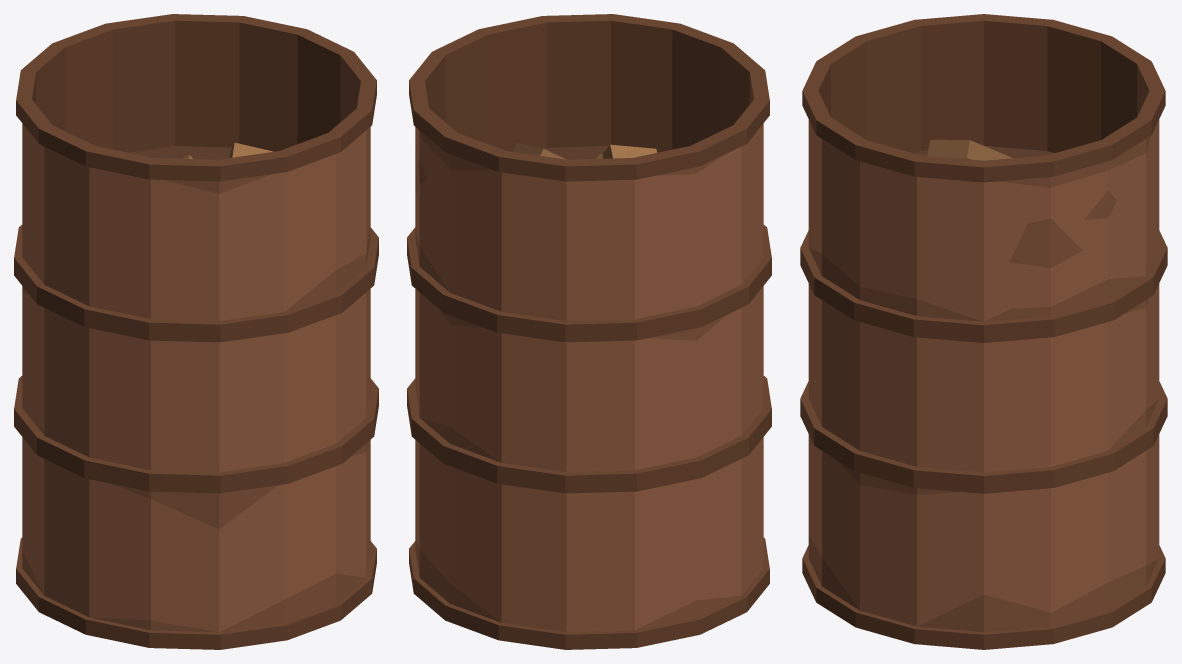
File: SM_Props_Barrel_06.glb
3 views of the same model, side by side, from view 1: azimuth 30°, elevation 25°; view 2: azimuth 150°, elevation 25°; view 3: azimuth 270°, elevation 25° (orthographic).
Parts seen in each view (by area): view 1: SM_Props_Barrel_06; view 2: SM_Props_Barrel_06; view 3: SM_Props_Barrel_06.
Part boxes in pixels (x1,y1,x2,y2): SM_Props_Barrel_06: (14,14,378,649); SM_Props_Barrel_06: (407,14,771,649); SM_Props_Barrel_06: (800,14,1167,649).
Bounding box in the file's own units: 0.607 × 0.88 × 0.607.
1 material, 1 textured.
